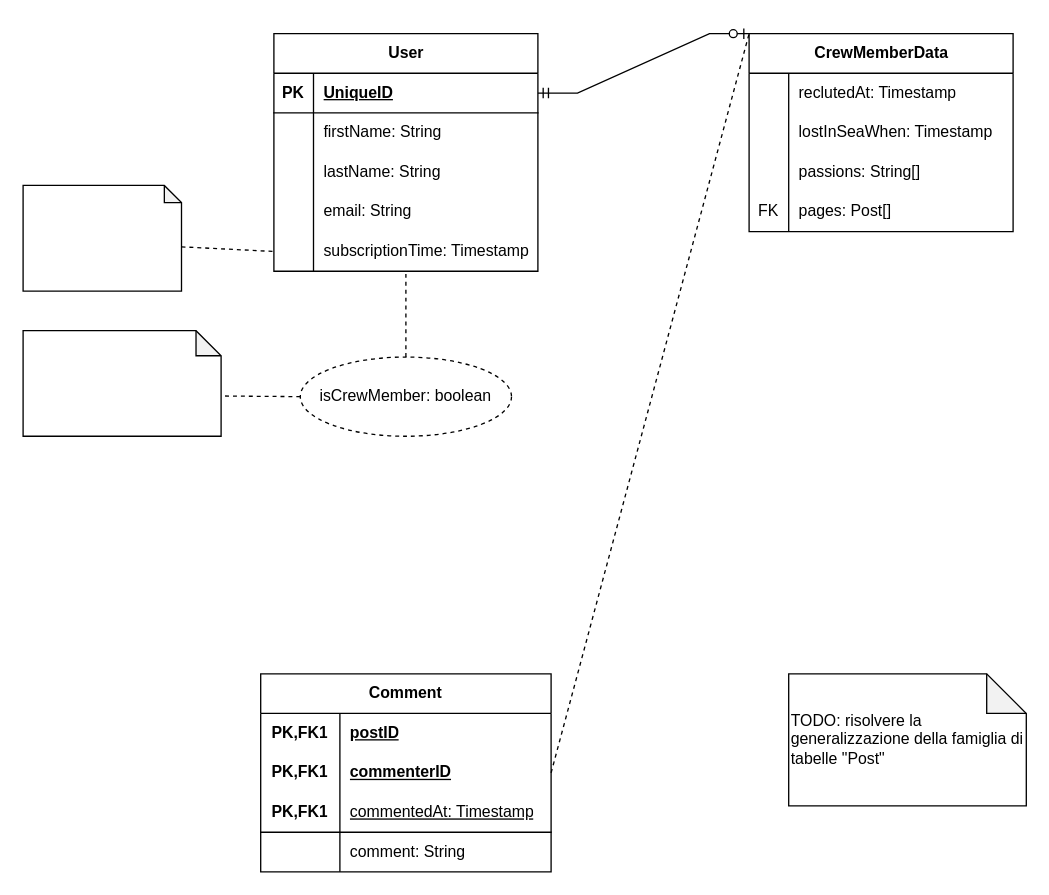
The diagram is 1049 pixels wide and 895 high, and some of its shapes have lost their labels. The shapes that lost their labels are listed below. From the top down, each one's centre as x and y in pixels, then its label:
pixel 102 237: "subscriptionTime" and "reclutedAt" are collapsed here
pixel 121 382: Derived by the existence of a "CrewMemberData" entry
